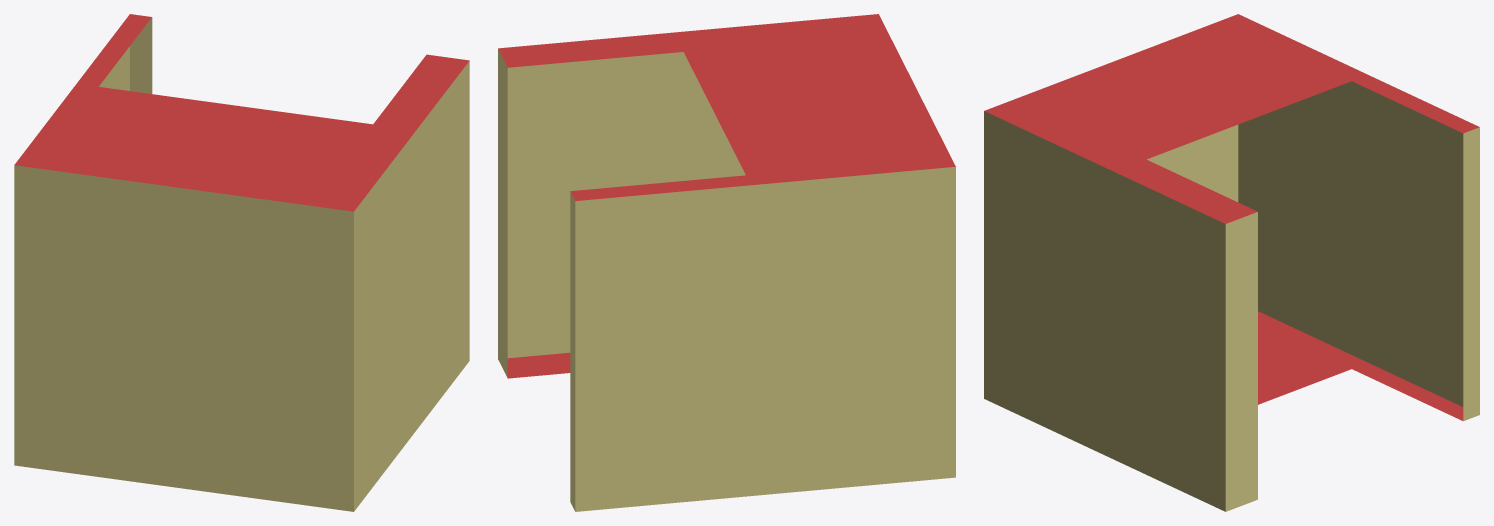
The picture shows the model from 3 angles, left to right: view 1: azimuth 30°, elevation 25°; view 2: azimuth 150°, elevation 25°; view 3: azimuth 270°, elevation 25°; orthographic projection. The views are drawn at different scales.
Visible parts, largest first — view 1: group_4, group_3; view 2: group_4, group_3, group_5; view 3: group_4, group_3, group_5.
Part boxes in pixels (x1,y1,x2,y2): group_4: (14, 17, 469, 511); group_3: (14, 14, 469, 211); group_4: (498, 49, 955, 511); group_3: (498, 14, 955, 200); group_5: (507, 352, 570, 378); group_4: (984, 81, 1479, 511); group_3: (984, 14, 1479, 223); group_5: (1258, 311, 1463, 420).
Size of the model in its own units: 10.98 by 10.95 by 7.02.
